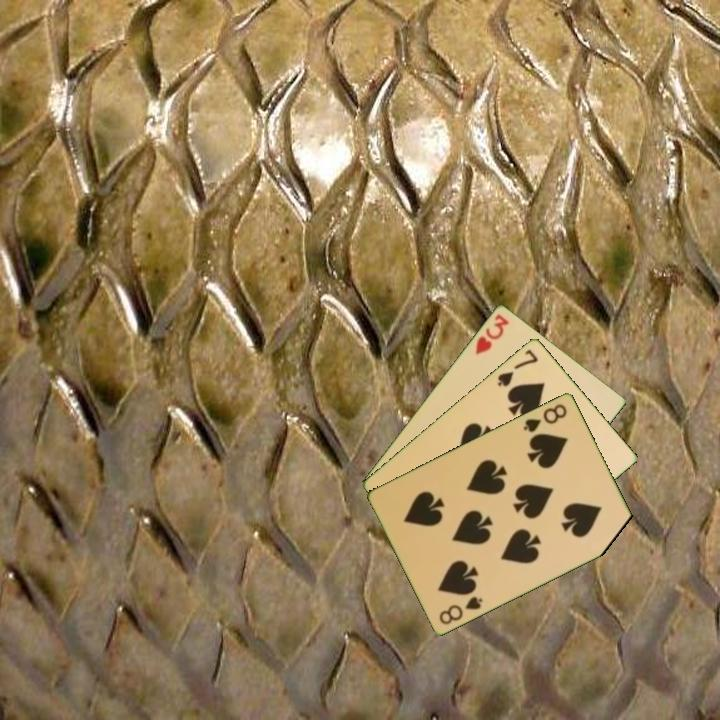3h: (471, 310, 512, 357)
7s: (494, 345, 541, 389)
8s: (520, 400, 570, 435), (435, 592, 485, 627)
